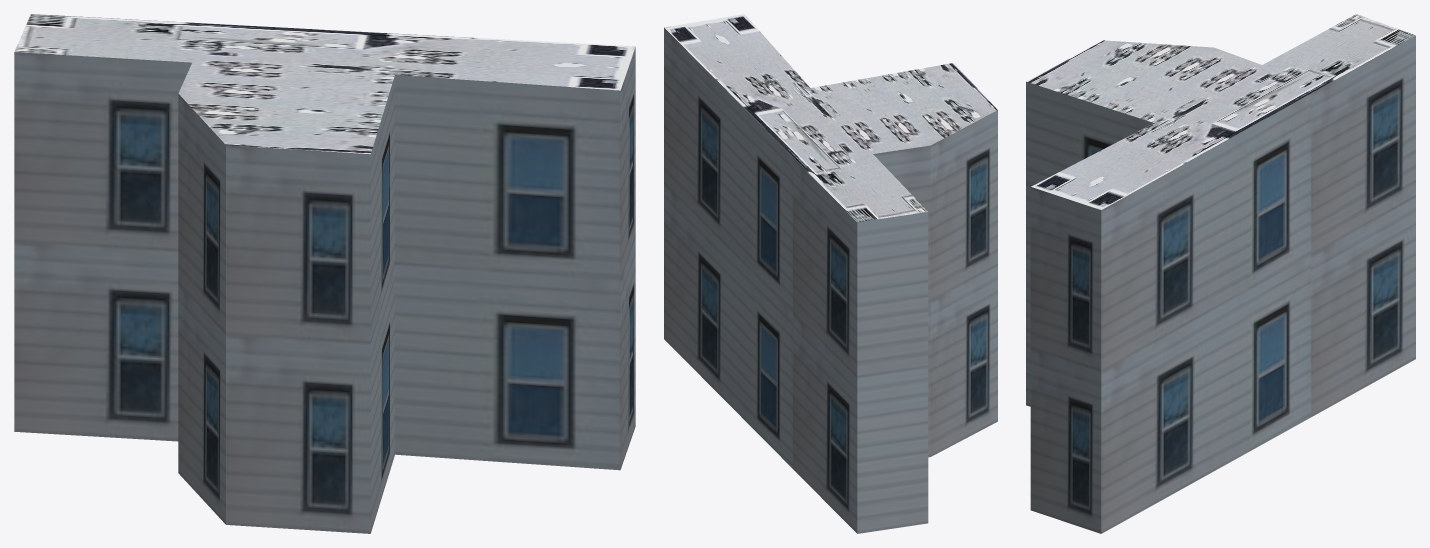
File: ResTex__195.fbx
The picture shows the model from 3 angles, left to right: view 1: azimuth 30°, elevation 25°; view 2: azimuth 150°, elevation 25°; view 3: azimuth 270°, elevation 25°; orthographic projection. The views are drawn at different scales.
Visible parts, largest first — view 1: CityEngineMaterial_18_m, CityEngineMaterial_4_m; view 2: CityEngineMaterial_18_m, CityEngineMaterial_4_m; view 3: CityEngineMaterial_18_m, CityEngineMaterial_4_m.
Boxes of the visible parts, x1,y1,x2,y2 form: CityEngineMaterial_18_m: [14, 47, 635, 533]; CityEngineMaterial_4_m: [14, 14, 635, 154]; CityEngineMaterial_18_m: [664, 28, 997, 533]; CityEngineMaterial_4_m: [664, 14, 997, 222]; CityEngineMaterial_18_m: [1026, 35, 1415, 533]; CityEngineMaterial_4_m: [1026, 14, 1415, 209].
Bounding box in the file's own units: 7.8 × 6 × 6.55.
2 materials, 2 textured.
